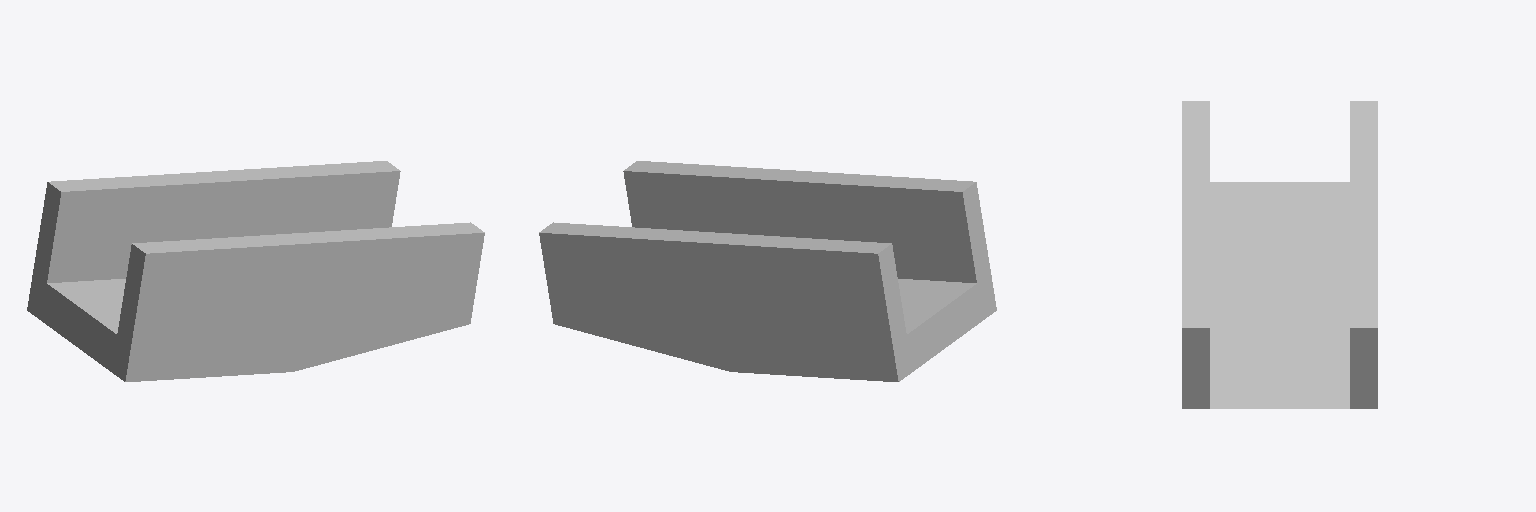
Rendered from 10 Deg.obj.
3 views of the same model, side by side, from view 1: azimuth 30°, elevation 25°; view 2: azimuth 150°, elevation 25°; view 3: azimuth 270°, elevation 25° (orthographic).
Parts seen in each view (by area): view 1: Cube; view 2: Cube; view 3: Cube.
Part boxes in pixels (x1,y1,x2,y2): Cube: (27,161,484,381); Cube: (539,161,996,381); Cube: (1182,101,1377,408).
Size of the model in its own units: 4.22 by 1.73 by 2.